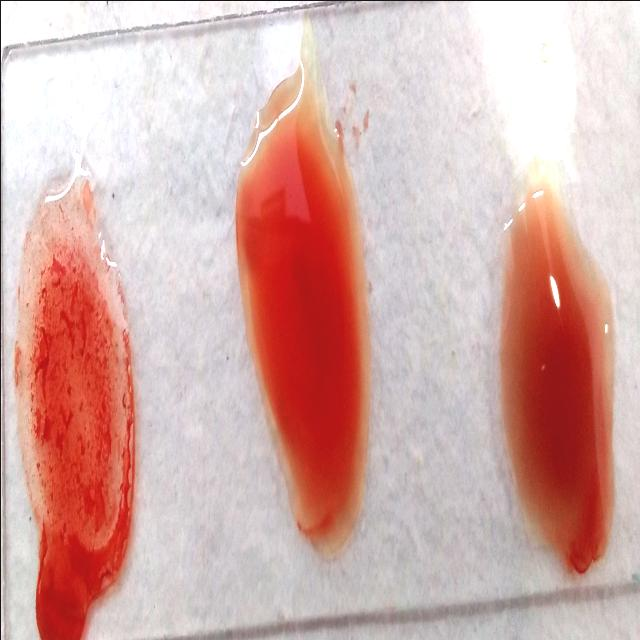D: (18, 176, 136, 598)
